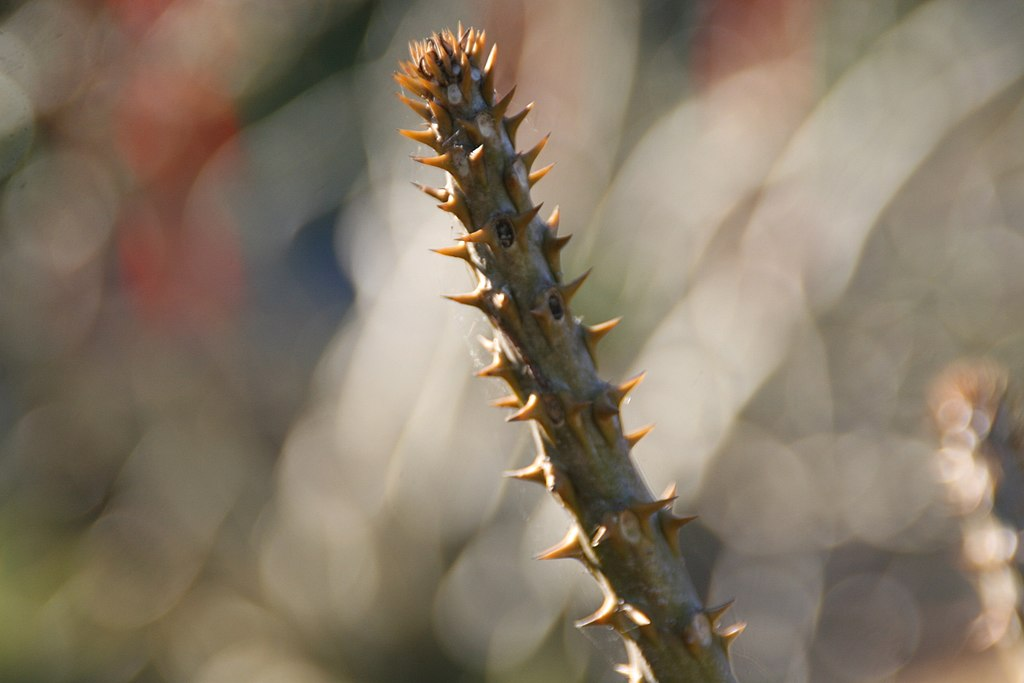Pachypodium meridionale: (386, 23, 792, 672)
